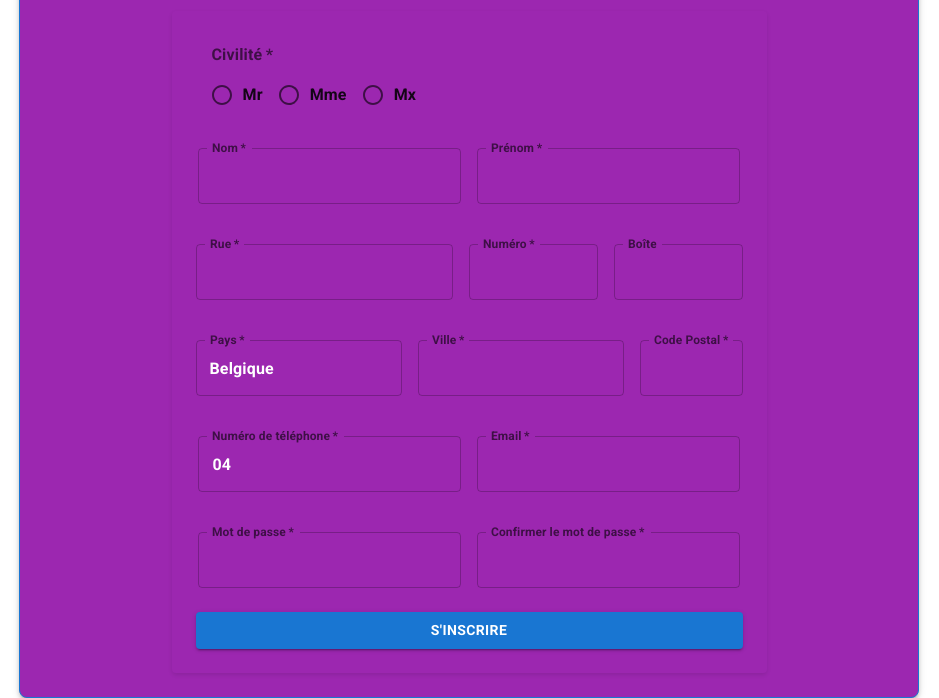
Test: RegisterPage › shows error if password and confirmation do not match
In the field labelled "Email *": (608, 464) [477,436,740,492], type "user@mail.com"
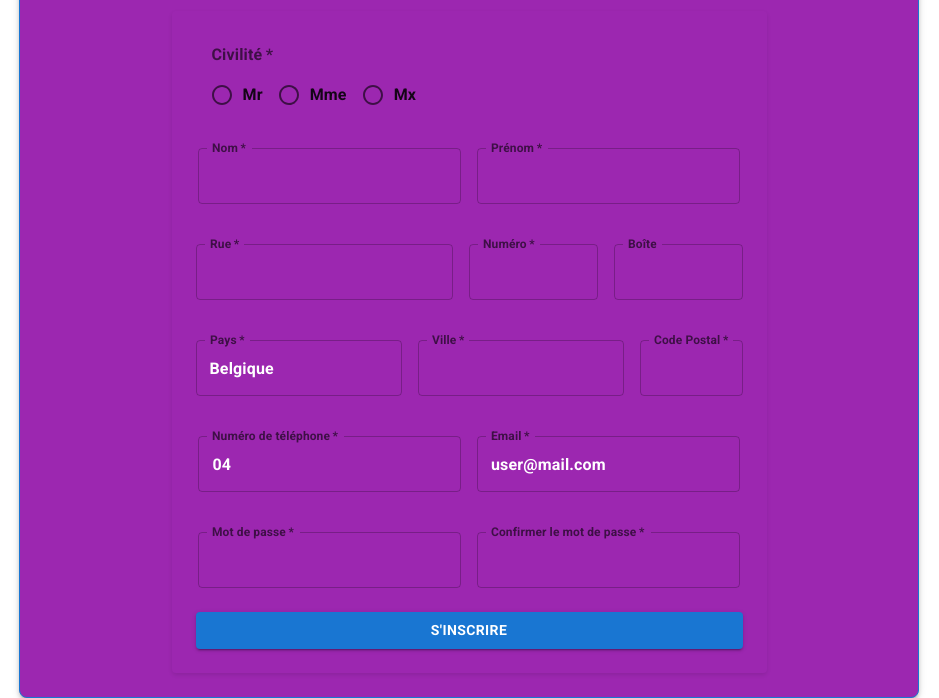
In the password field labelled "Mot de passe *": (330, 560) [198,532,461,588], type "Password@123"
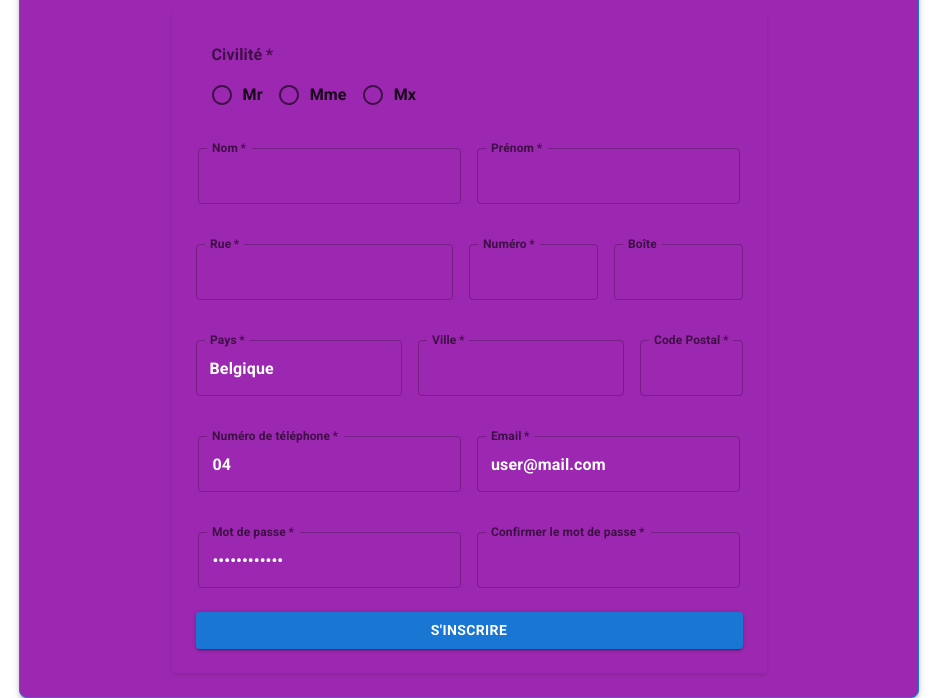
In the password field labelled "Confirmer le mot de passe *": (608, 560) [477,532,740,588], type "DifferentPassword"
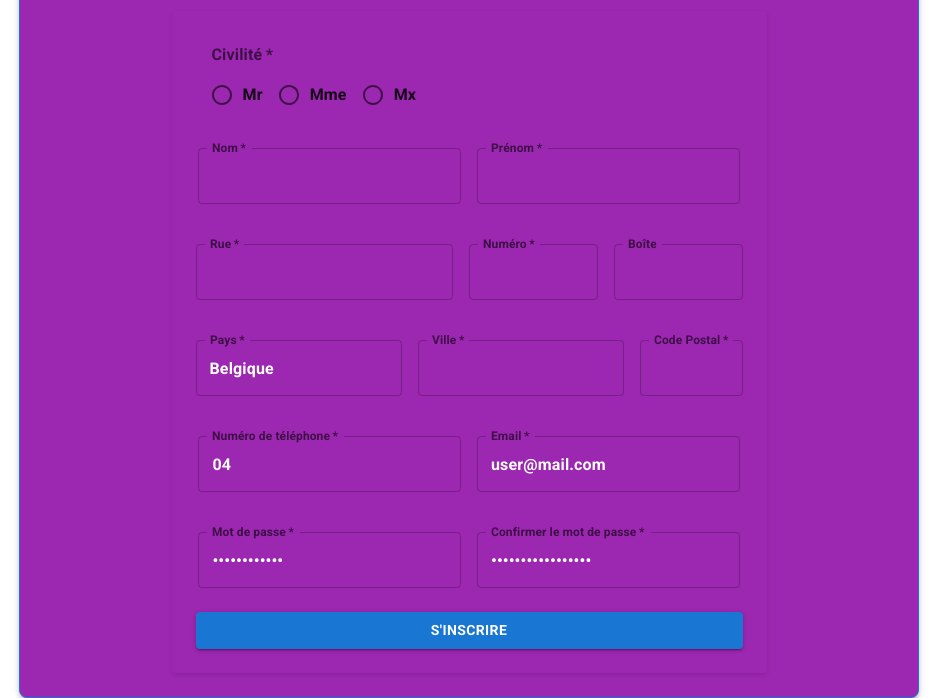
Submit the form from the button "S'inscrire", box [196,612,742,649]
(page scrolled)
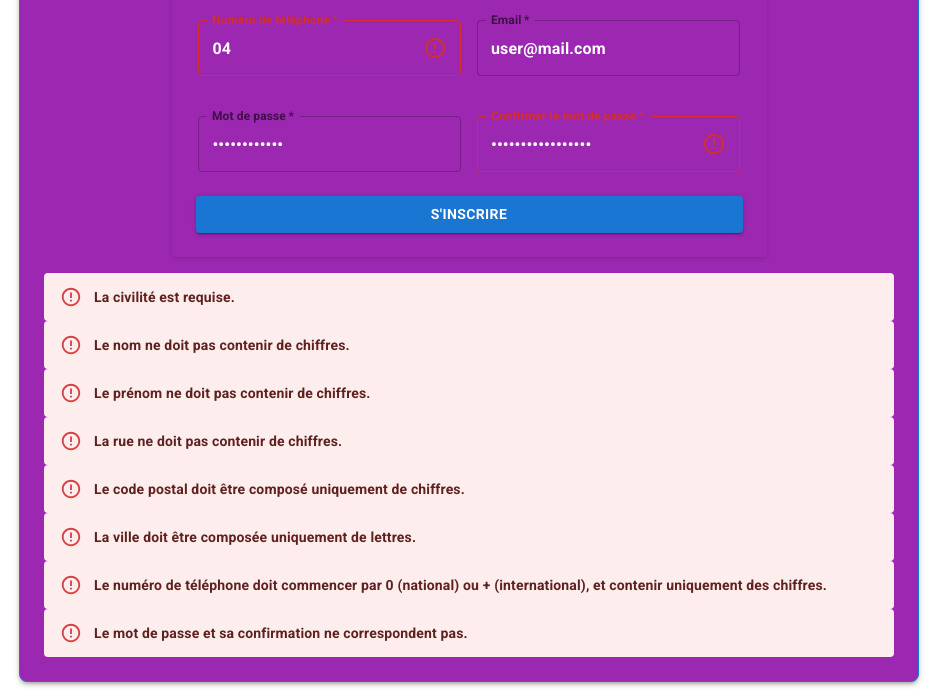
Result: the text "Le mot de passe et sa confirmation ne correspondent pas." is shown at [94,623,468,643]
